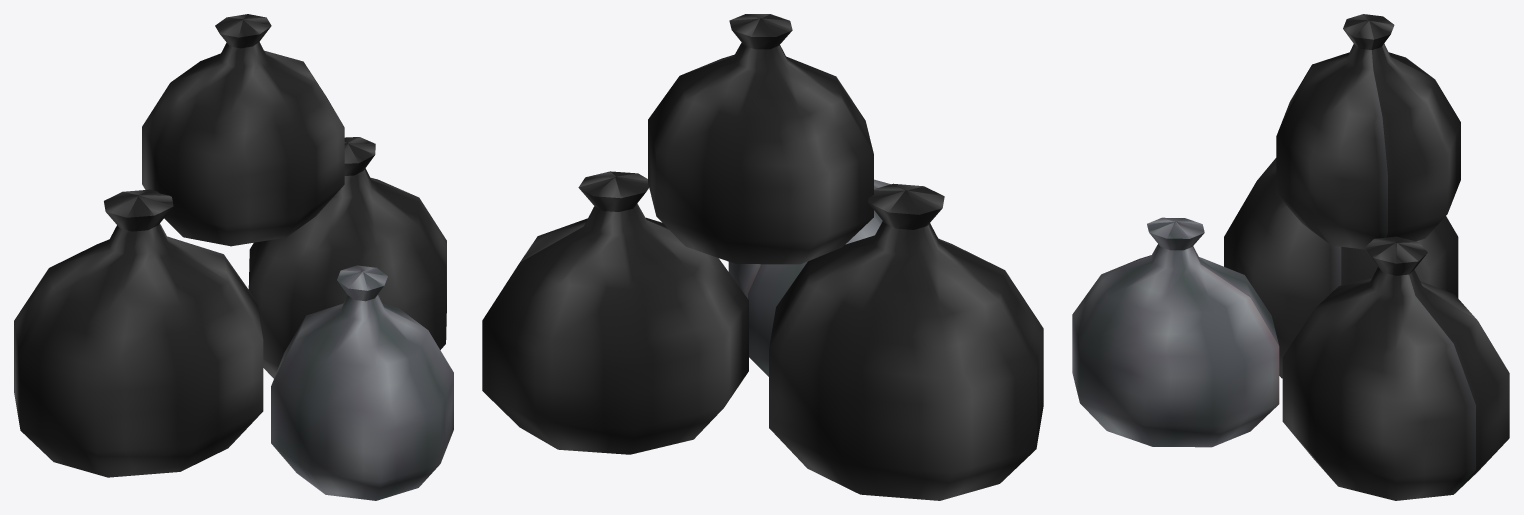
Rendered from trash_bags.obj.
3 views of the same model, side by side, from view 1: azimuth 30°, elevation 25°; view 2: azimuth 150°, elevation 25°; view 3: azimuth 270°, elevation 25° (orthographic). The views are drawn at different scales.
Visible parts, largest first — view 1: trash_bags; view 2: trash_bags; view 3: trash_bags.
Boxes of the visible parts, x1,y1,x2,y2 form: trash_bags: (14, 14, 453, 500); trash_bags: (482, 14, 1043, 500); trash_bags: (1072, 14, 1509, 500).
Size of the model in its own units: 0.9588 by 0.7896 by 0.7938.
1 material, 1 textured.
